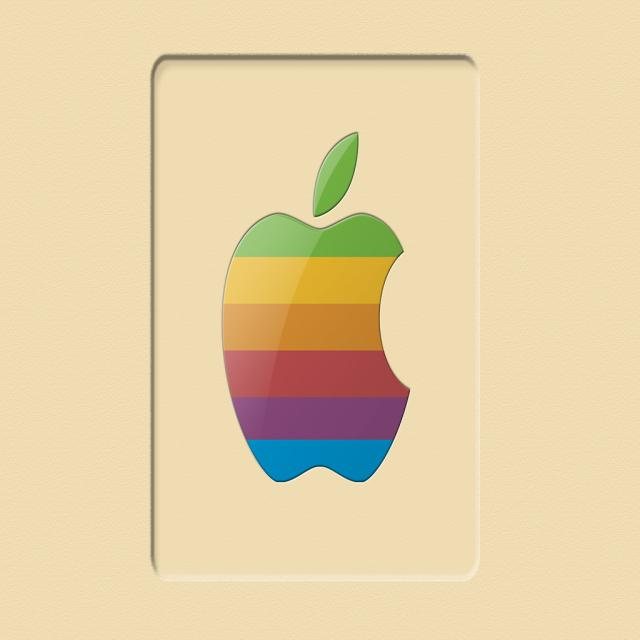Healty Apple: (220, 128, 408, 484)
